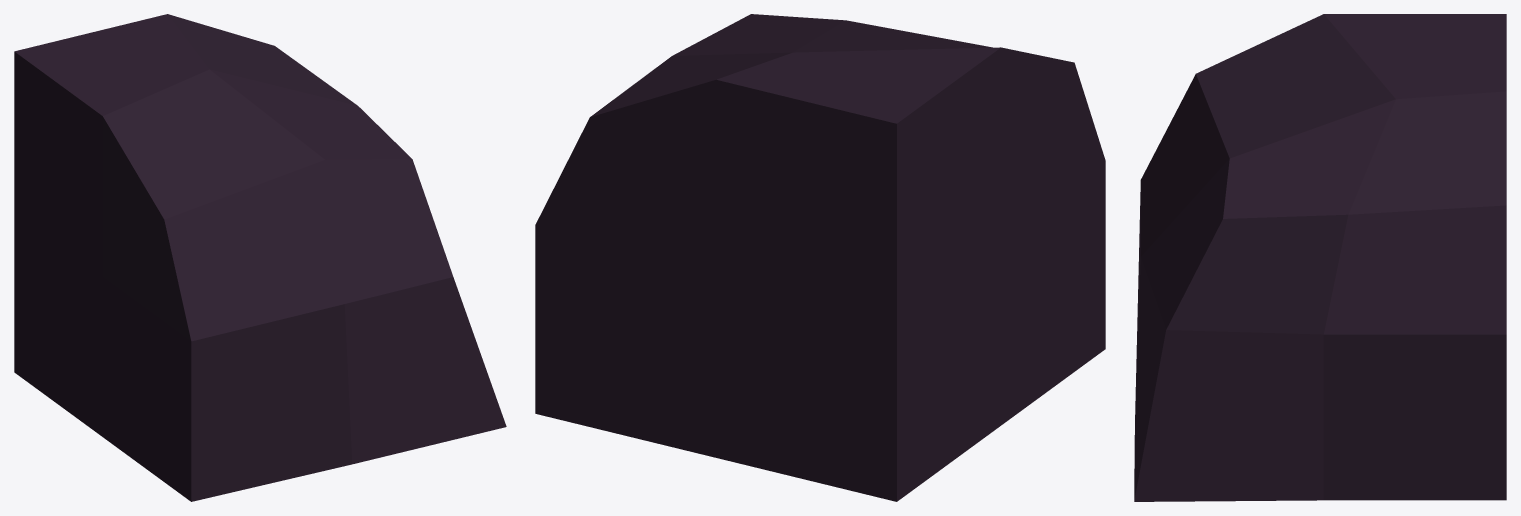
The model's file is CliffTopCorner.fbx.
3 views of the same model, side by side, from view 1: azimuth 30°, elevation 25°; view 2: azimuth 150°, elevation 25°; view 3: azimuth 270°, elevation 25° (orthographic). The views are drawn at different scales.
Visible parts, largest first — view 1: CliffTopCorner; view 2: CliffTopCorner; view 3: CliffTopCorner.
Part boxes in pixels (x1,y1,x2,y2): CliffTopCorner: [14, 14, 506, 501]; CliffTopCorner: [535, 14, 1105, 501]; CliffTopCorner: [1134, 14, 1506, 501].
Bounding box in the file's own units: 40.77 × 40 × 40.72.
